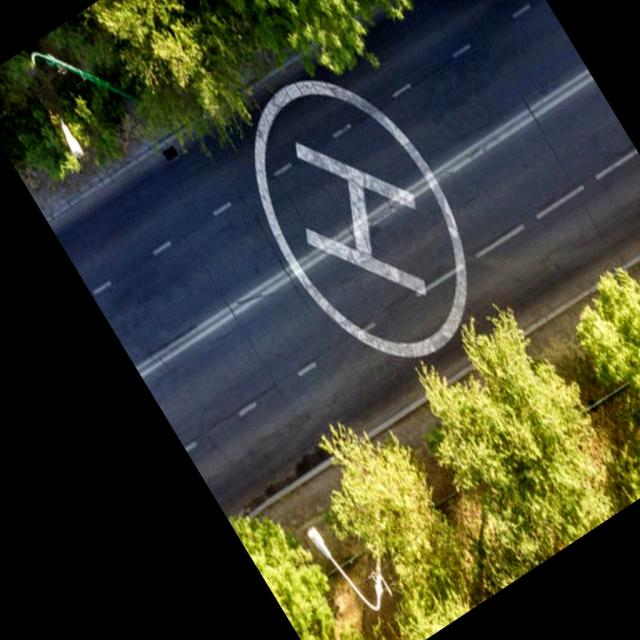helipad: (251, 76, 470, 360)
